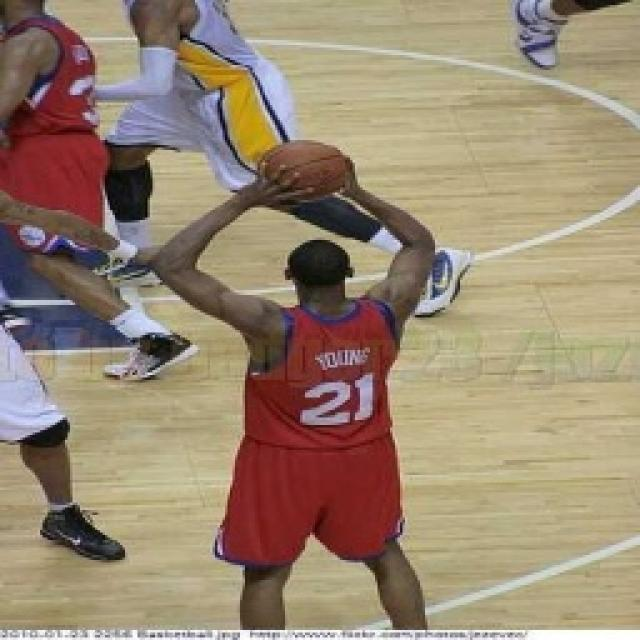basketball: (256, 132, 348, 201)
